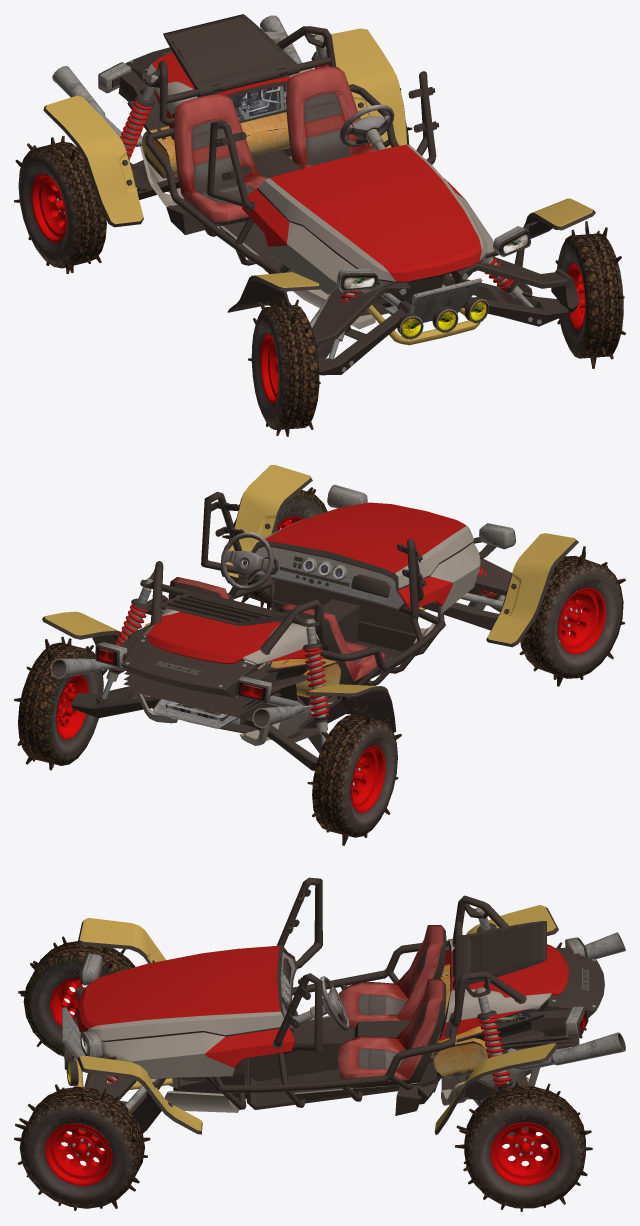
Rendered from Mesa car red.glb.
3 renders of one model, top to bottom at view 1: azimuth 30°, elevation 25°; view 2: azimuth 150°, elevation 25°; view 3: azimuth 270°, elevation 25°, orthographic. The views are drawn at different scales.
Visible parts, largest first — view 1: Engine.22, polySurface12.6, polySurface28.21, polySurface21.16, polySurface3.13, polySurface4.14, Spoiler.4, polySurface1.11, polySurface13.20, polySurface30.18, Headlight.2, Foglights.7 (+3 smaller); view 2: Engine.22, polySurface4.14, polySurface3.13, polySurface13.20, polySurface30.18, polySurface2.12, polySurface28.21, polySurface12.6, polySurface21.16, Spoiler.4, Exhaust.9, polySurface10.19 (+3 smaller); view 3: Engine.22, polySurface2.12, polySurface1.11, polySurface12.6, polySurface4.14, polySurface13.20, Spoiler.4, polySurface30.18, polySurface28.21, Exhaust.9, polySurface21.16, Headlight.2 (+2 smaller).
Part boxes in pixels (left/top/right/bottom): Engine.22: left=112, top=40, right=493, bottom=345; polySurface12.6: left=173, top=66, right=376, bottom=225; polySurface28.21: left=43, top=28, right=407, bottom=227; polySurface21.16: left=310, top=256, right=579, bottom=375; polySurface3.13: left=14, top=136, right=106, bottom=273; polySurface4.14: left=248, top=298, right=320, bottom=436; Spoiler.4: left=163, top=14, right=301, bottom=97; polySurface1.11: left=555, top=221, right=625, bottom=368; polySurface13.20: left=227, top=198, right=595, bottom=347; polySurface30.18: left=120, top=26, right=336, bottom=199; Headlight.2: left=336, top=226, right=530, bottom=292; Foglights.7: left=397, top=297, right=488, bottom=339; Engine.22: left=119, top=491, right=480, bottom=745; polySurface4.14: left=519, top=546, right=625, bottom=686; polySurface3.13: left=307, top=704, right=401, bottom=845; polySurface13.20: left=221, top=465, right=578, bottom=647; polySurface30.18: left=71, top=561, right=330, bottom=770; polySurface2.12: left=14, top=636, right=107, bottom=770; polySurface28.21: left=42, top=611, right=396, bottom=737; polySurface12.6: left=168, top=577, right=385, bottom=684; polySurface21.16: left=421, top=558, right=511, bottom=630; Spoiler.4: left=158, top=590, right=288, bottom=625; Exhaust.9: left=51, top=658, right=304, bottom=727; polySurface10.19: left=220, top=532, right=273, bottom=590; Engine.22: left=62, top=877, right=604, bottom=1115; polySurface2.12: left=455, top=1083, right=592, bottom=1211; polySurface1.11: left=14, top=1084, right=150, bottom=1210; polySurface12.6: left=337, top=925, right=446, bottom=1088; polySurface4.14: left=18, top=936, right=135, bottom=1060; polySurface13.20: left=77, top=917, right=202, bottom=1134; Spoiler.4: left=452, top=921, right=546, bottom=989; polySurface30.18: left=449, top=895, right=535, bottom=1135; polySurface28.21: left=434, top=905, right=558, bottom=1134; Exhaust.9: left=506, top=932, right=625, bottom=1070; polySurface21.16: left=71, top=987, right=166, bottom=1148; Headlight.2: left=80, top=953, right=116, bottom=1059.
Bounding box in the file's own units: 0.0218 × 0.0128 × 0.0324.
47 materials, 46 textured.
